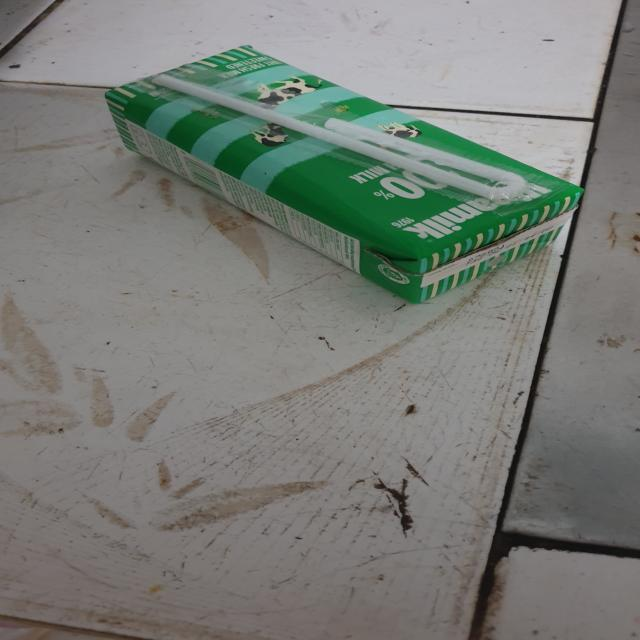Vina: (101, 43, 591, 307)
